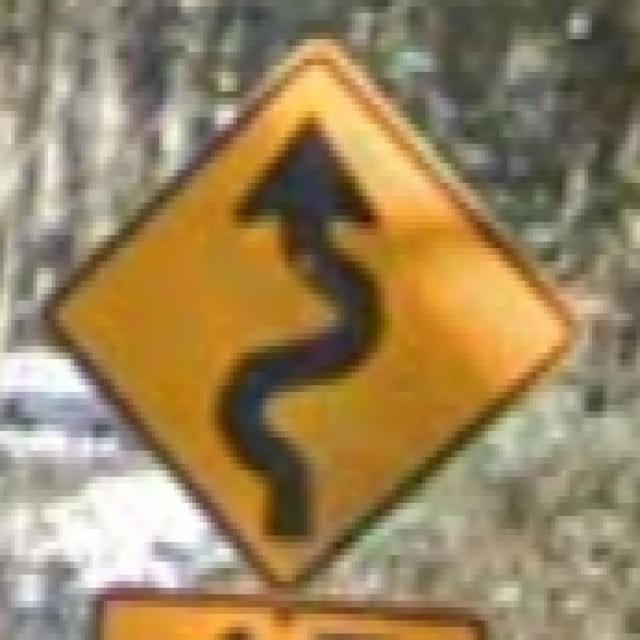Banyak Tikungan Pertama Kiri: (34, 19, 578, 601)
